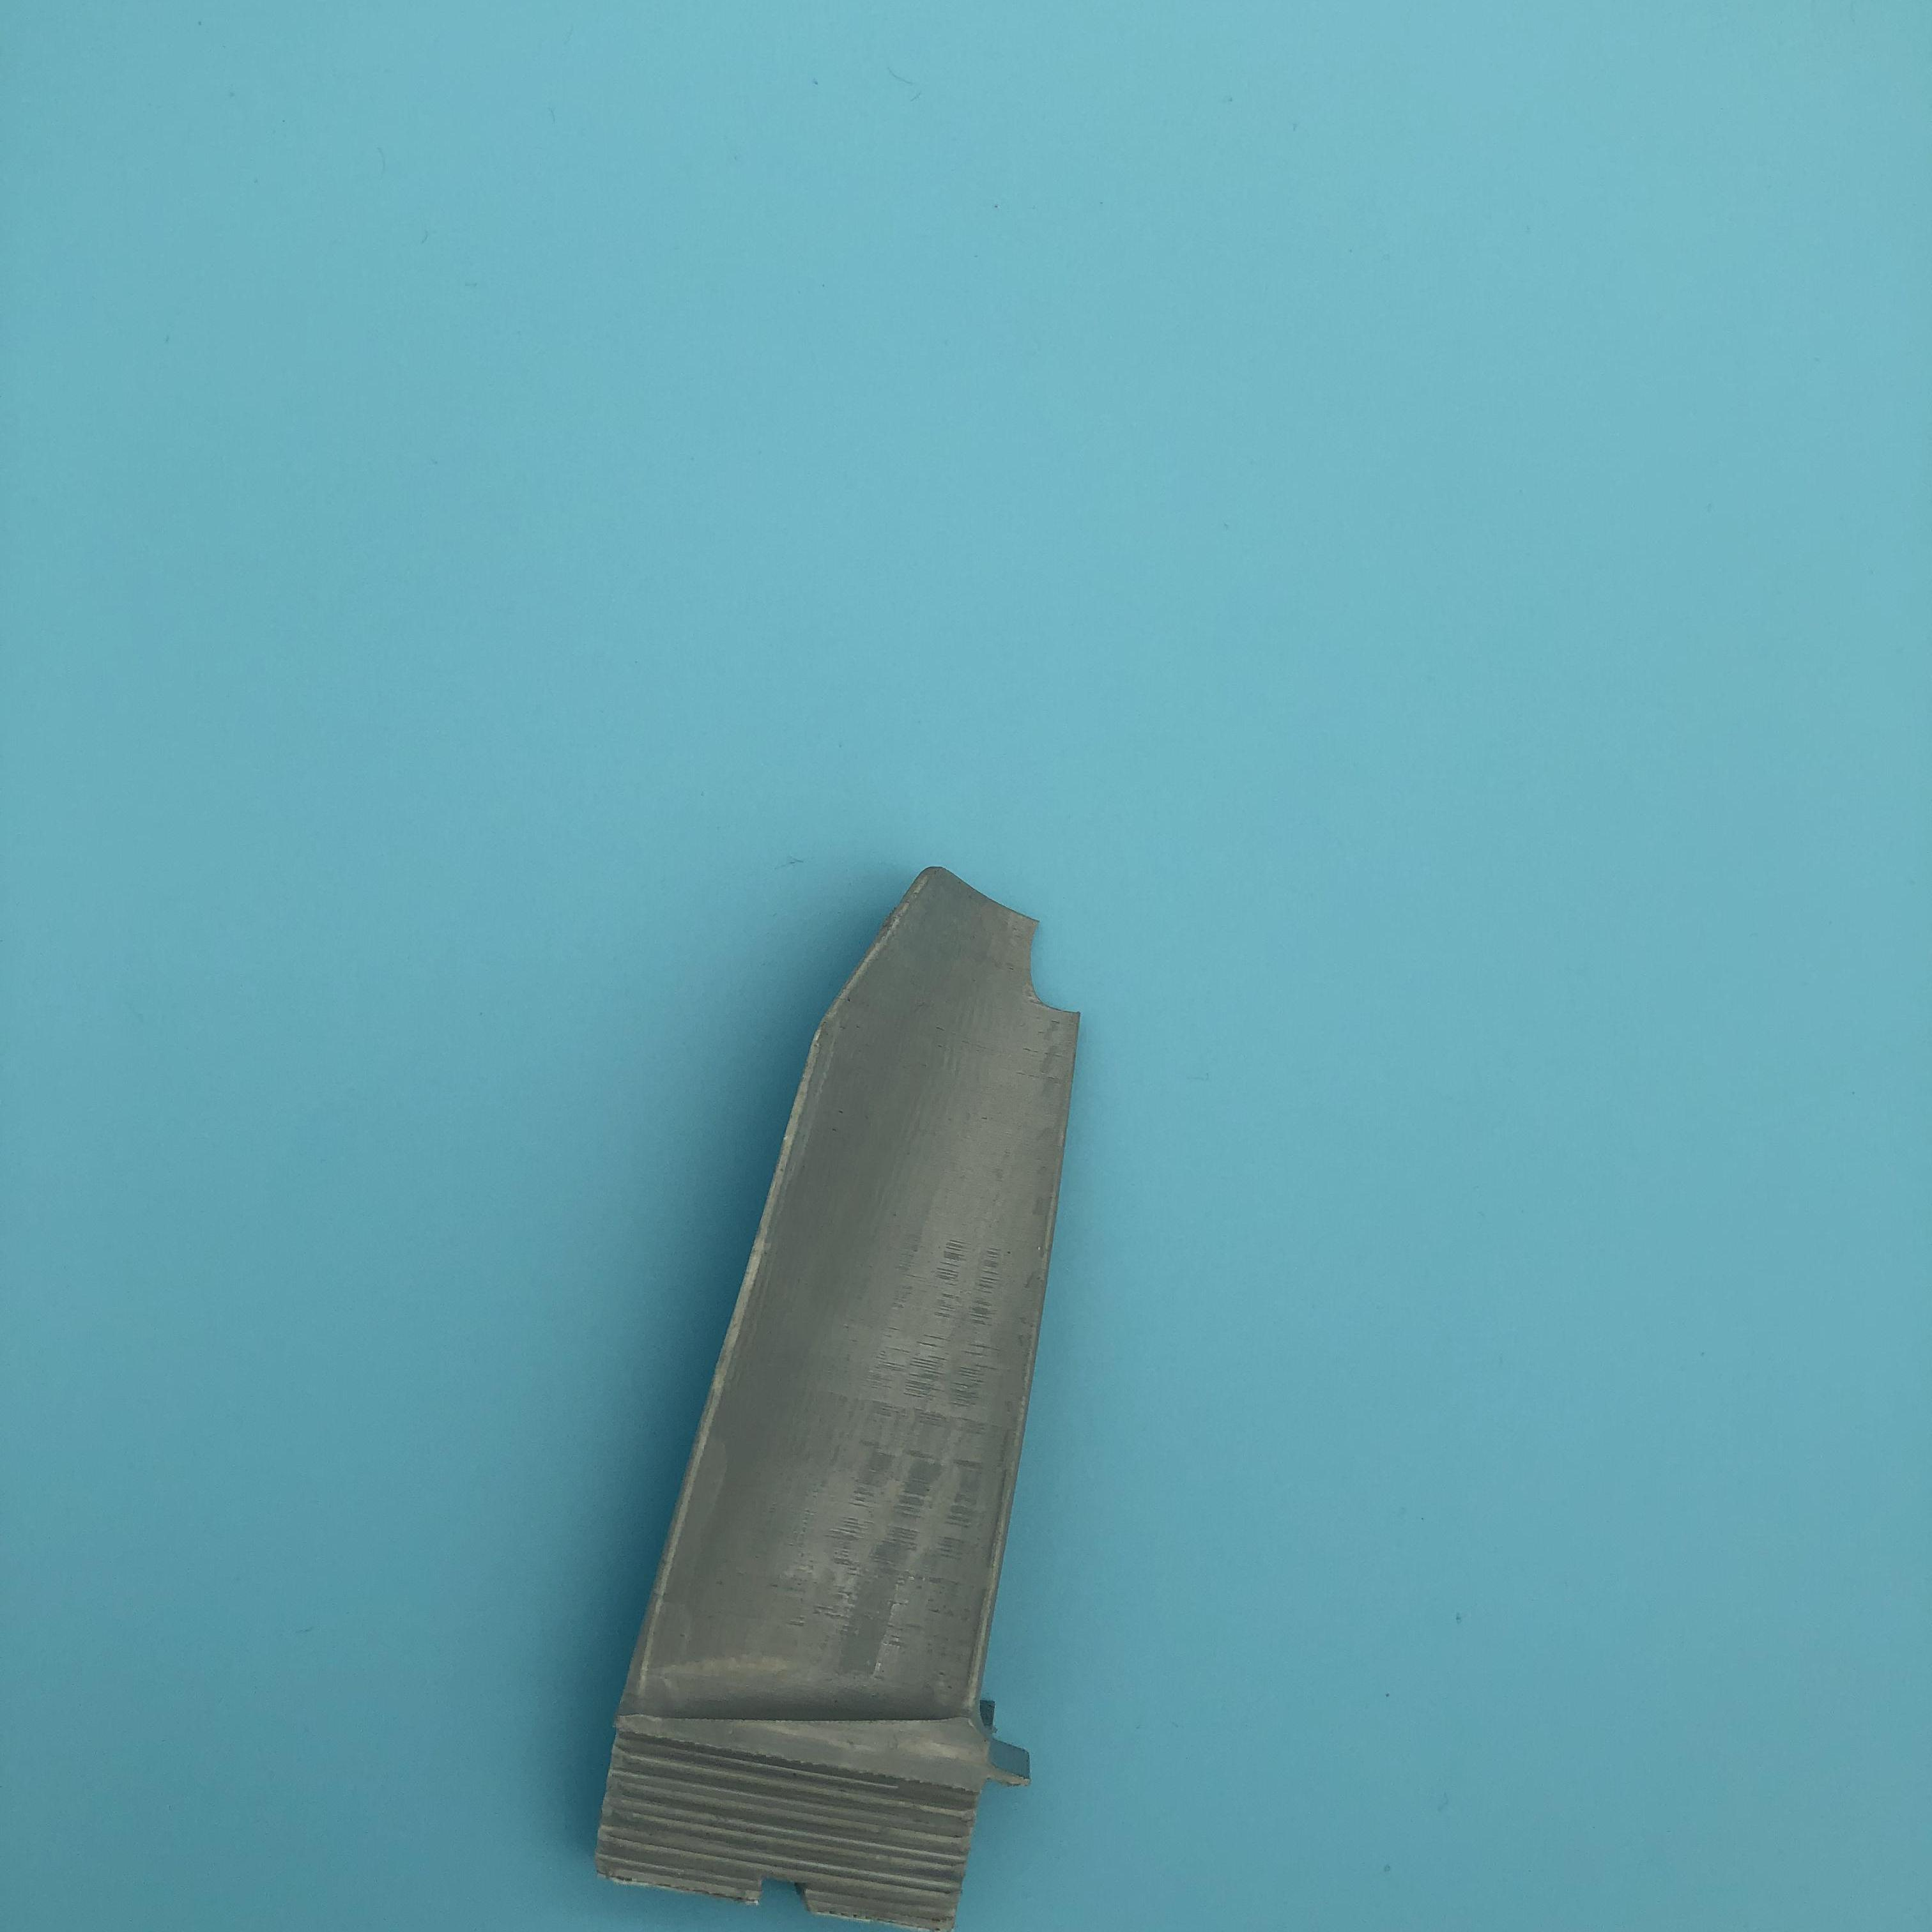fracture: (987, 908, 1102, 1030)
